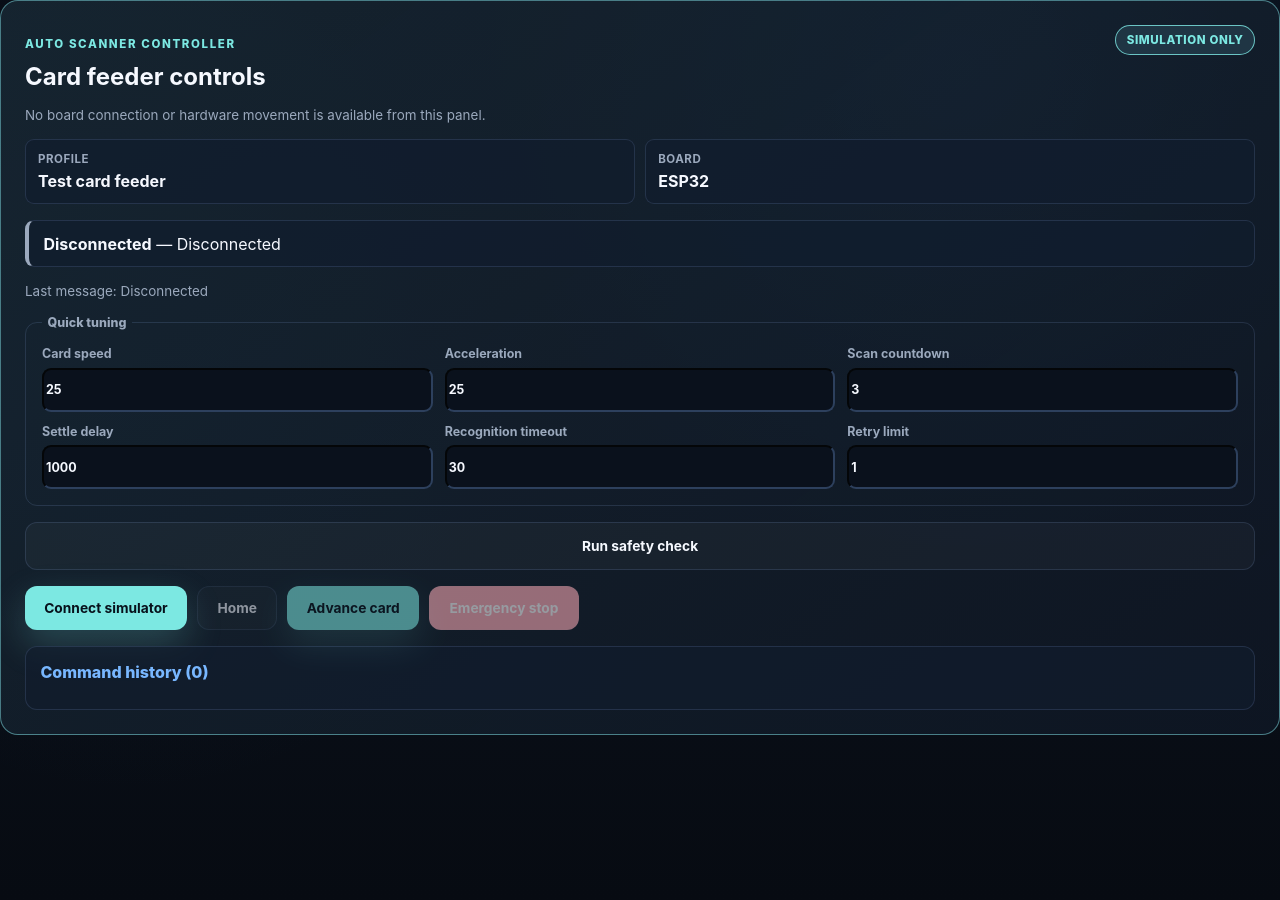
Test: shows active-profile diagnostics and command history after connecting
Expected: the text "Test card feeder" is shown, [38,171,166,191]
Expected: the text "ESP32" is shown, [658,171,709,191]
Click the button "Connect simulator" at (106, 608), box [25,586,187,630]
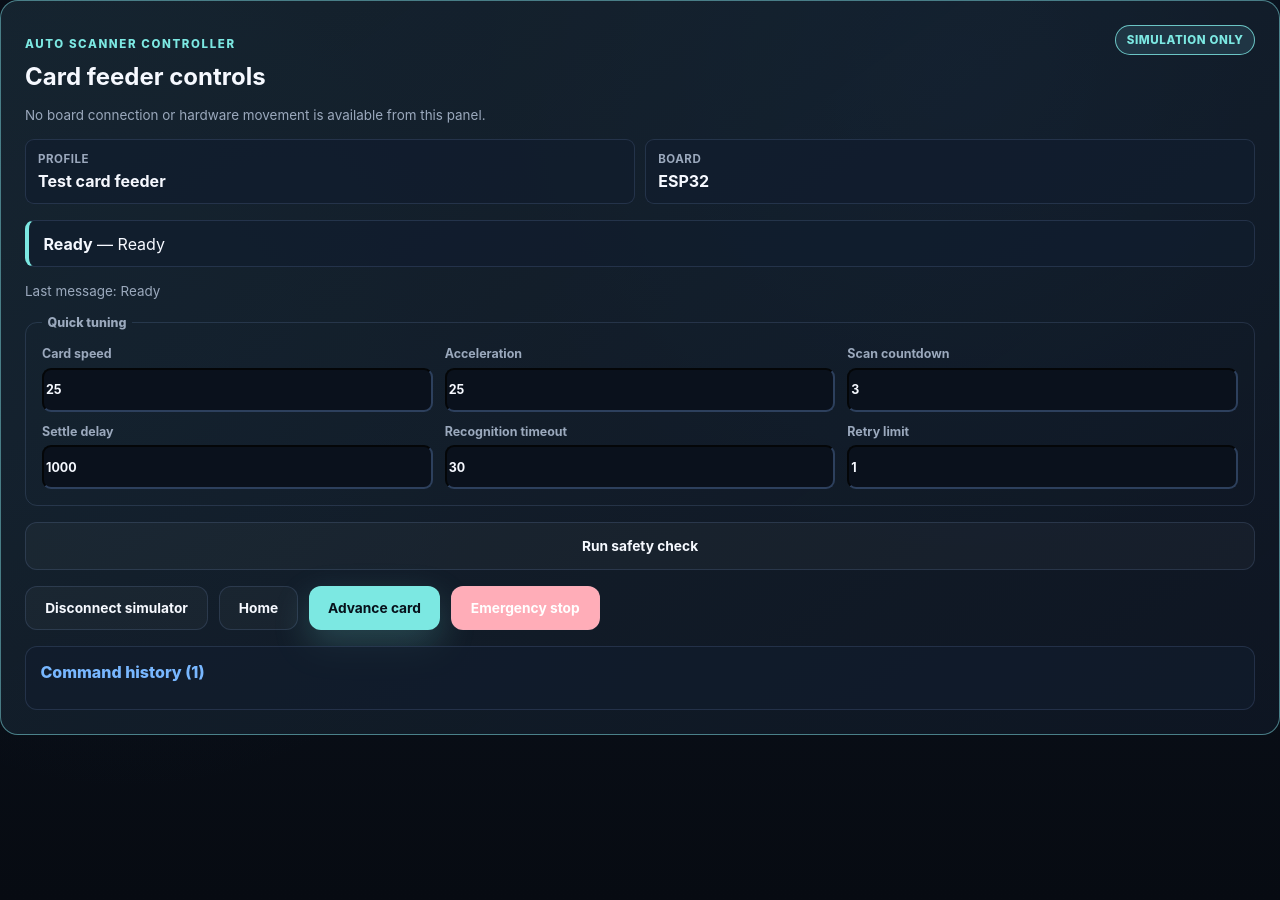
Now the text "Last message: Ready" is shown, box [25,283,160,299]
Click the heading "Command history (1)" at (122, 672), box [40,662,205,682]
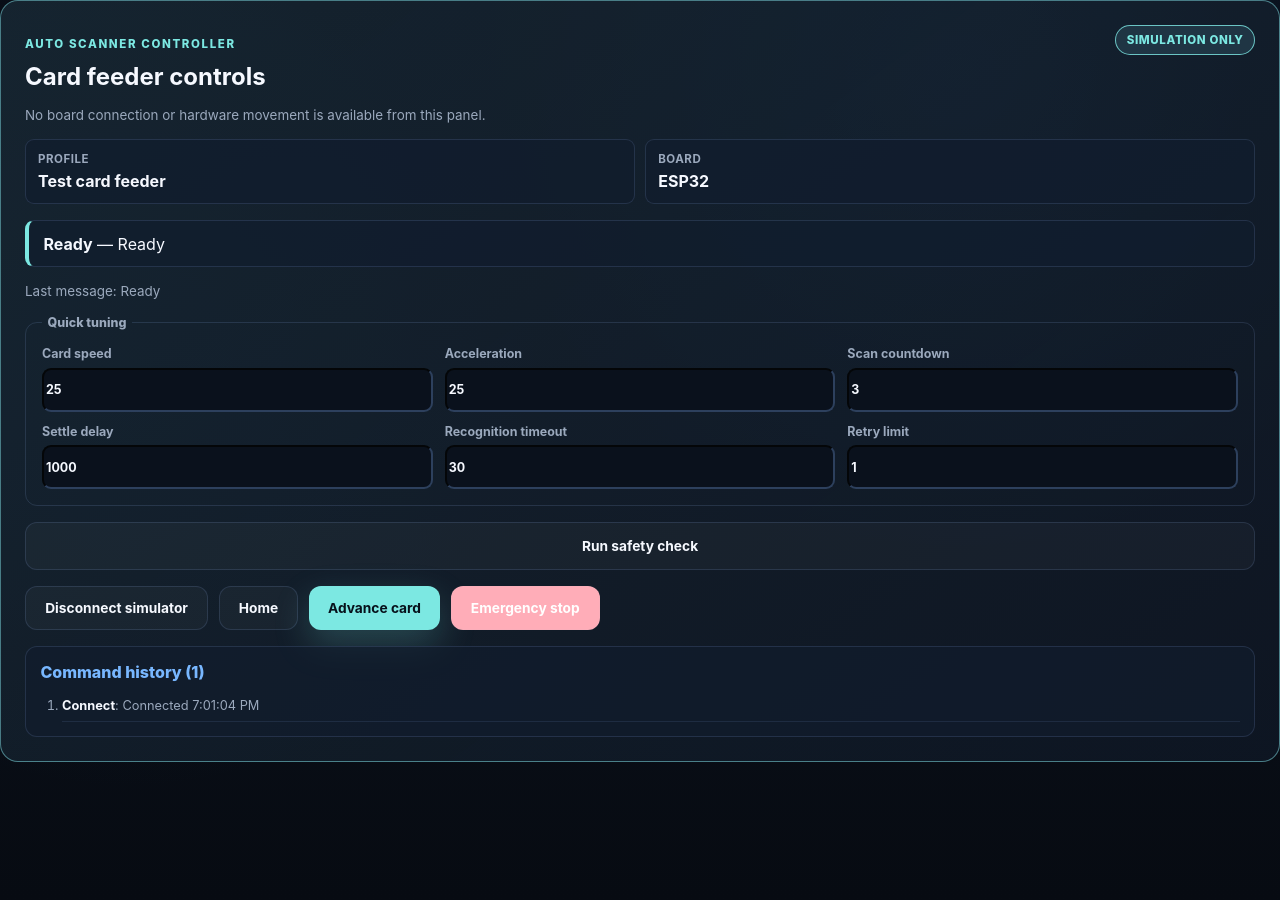
Now the list item "connect: Connected 7:01:04 PM" is shown, box [62,698,1240,722]
